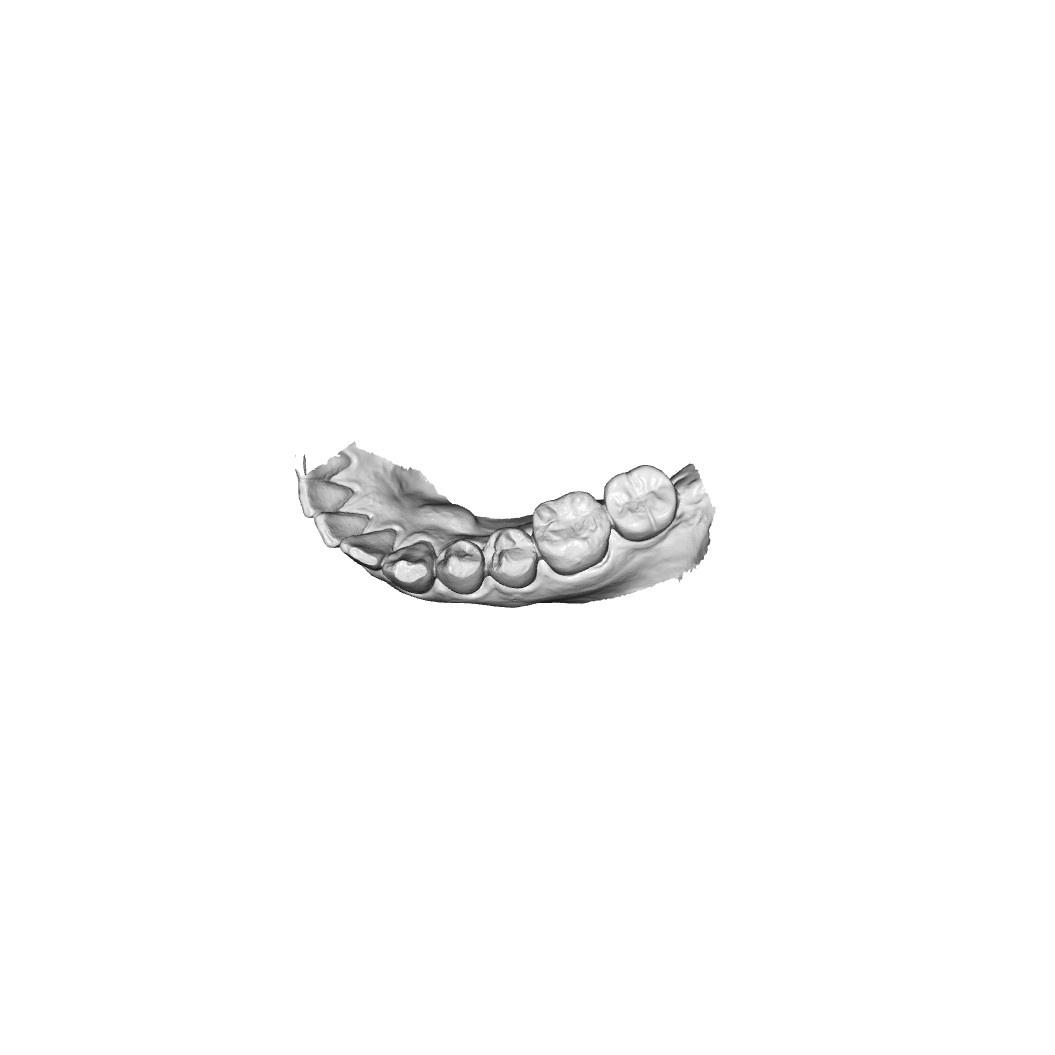canine: (385, 538, 441, 591)
incisor: (298, 472, 364, 520), (313, 506, 370, 548), (343, 532, 396, 575)
molar: (531, 490, 609, 575), (606, 463, 682, 545)
premolar: (485, 526, 539, 591), (440, 534, 489, 590)
